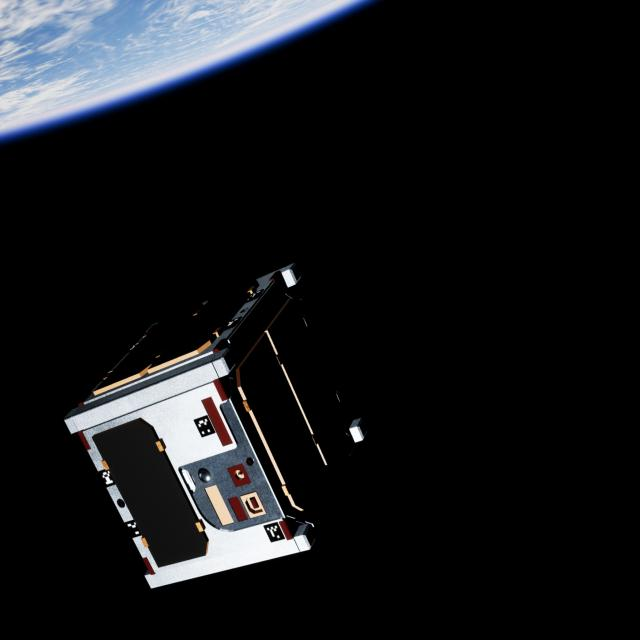medium_debris: (60, 263, 369, 603)
